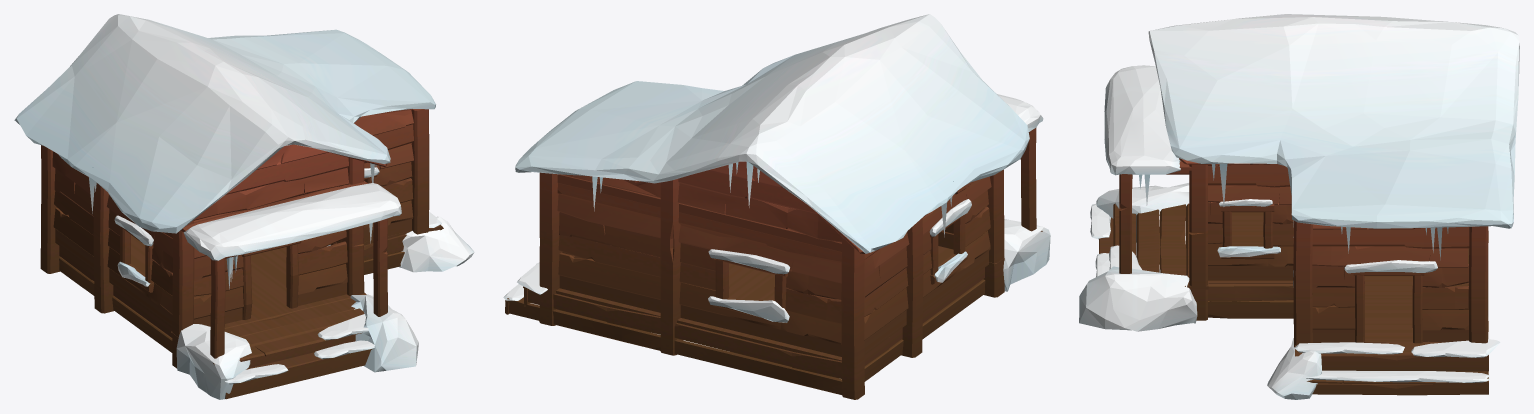
3 renders of one model, left to right at view 1: azimuth 30°, elevation 25°; view 2: azimuth 150°, elevation 25°; view 3: azimuth 270°, elevation 25°, orthographic. The views are drawn at different scales.
Visible parts, largest first — view 1: SnowyHouse1; view 2: SnowyHouse1; view 3: SnowyHouse1.
Boxes of the visible parts, box(x1,y1,x2,y2) form: SnowyHouse1: box(14, 14, 474, 399); SnowyHouse1: box(503, 14, 1050, 399); SnowyHouse1: box(1079, 14, 1519, 399).
Size of the model in its own units: 12.92 by 8.15 by 12.58.
1 material, 1 textured.
